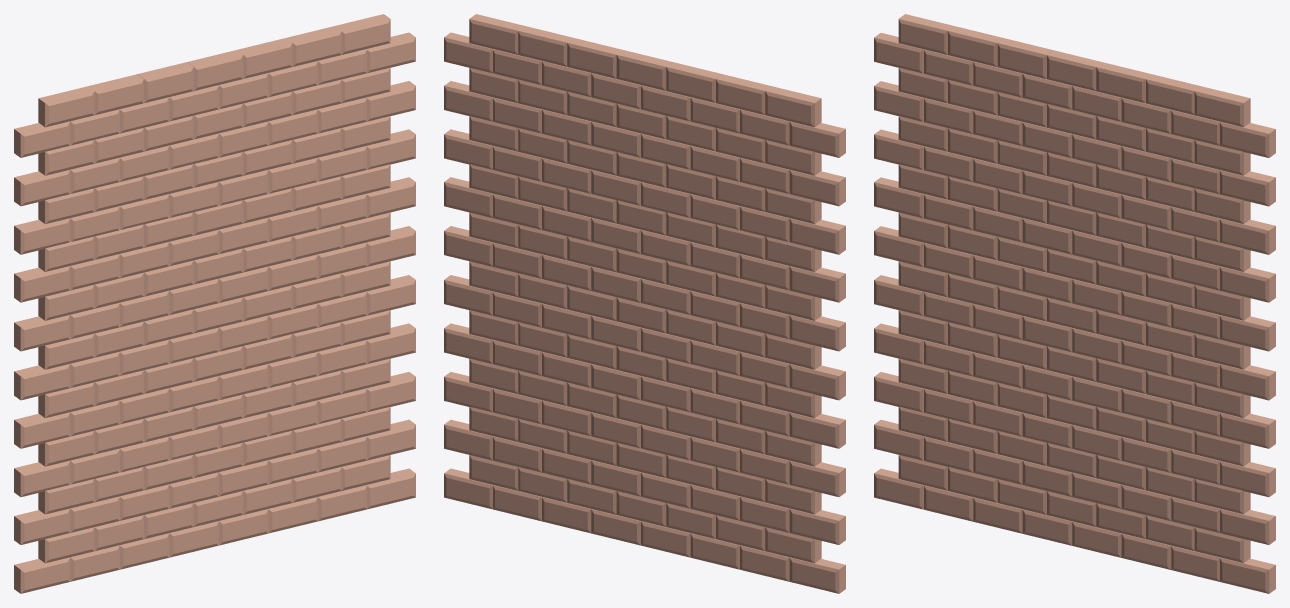
Rendered from Brick_Wall.fbx.
3 renders of one model, left to right at view 1: azimuth 30°, elevation 25°; view 2: azimuth 150°, elevation 25°; view 3: azimuth 330°, elevation 25°, orthographic.
Parts seen in each view (by area): view 1: Brick__143_, Brick__146_, Brick__8_, Brick__90_, Brick, Brick__75_, Brick__45_, Brick__120_, Brick__135_, Brick__60_, Brick__105_, Brick__30_ (+138 smaller); view 2: Brick__143_, Brick__146_, Brick__8_, Brick__90_, Brick, Brick__75_, Brick__45_, Brick__120_, Brick__135_, Brick__60_, Brick__105_, Brick__30_ (+138 smaller); view 3: Brick__149_, Brick__82_, Brick__144_, Brick__97_, Brick__7_, Brick__22_, Brick__127_, Brick__143_, Brick__145_, Brick__146_, Brick__147_, Brick__67_ (+138 smaller).
Part boxes in pixels (<box>): Brick__143_: <box>38,86,94,127</box>; Brick__146_: <box>187,50,243,90</box>; Brick__8_: <box>14,508,70,544</box>; Brick__90_: <box>14,266,70,302</box>; Brick: <box>14,557,70,593</box>; Brick__75_: <box>14,315,70,351</box>; Brick__45_: <box>14,412,70,448</box>; Brick__120_: <box>14,170,70,206</box>; Brick__135_: <box>14,121,70,157</box>; Brick__60_: <box>14,364,70,400</box>; Brick__105_: <box>14,218,70,254</box>; Brick__30_: <box>14,460,70,496</box>; Brick__143_: <box>765,86,821,127</box>; Brick__146_: <box>616,50,672,90</box>; Brick__8_: <box>789,508,845,544</box>; Brick__90_: <box>789,266,845,302</box>; Brick: <box>789,557,845,593</box>; Brick__75_: <box>789,315,845,351</box>; Brick__45_: <box>789,412,845,448</box>; Brick__120_: <box>789,170,845,206</box>; Brick__135_: <box>789,121,845,157</box>; Brick__60_: <box>789,364,845,400</box>; Brick__105_: <box>789,218,845,254</box>; Brick__30_: <box>789,460,845,496</box>; Brick__149_: <box>1194,86,1250,127</box>; Brick__82_: <box>1220,315,1275,351</box>; Brick__144_: <box>948,26,1003,66</box>; Brick__97_: <box>1220,266,1275,302</box>; Brick__7_: <box>1220,557,1275,593</box>; Brick__22_: <box>1220,508,1275,544</box>; Brick__127_: <box>1220,170,1275,206</box>; Brick__143_: <box>898,14,953,54</box>; Brick__145_: <box>997,38,1053,79</box>; Brick__146_: <box>1047,50,1102,91</box>; Brick__147_: <box>1096,62,1151,103</box>; Brick__67_: <box>1220,364,1275,400</box>.
Bounding box in the file's own units: 237 × 278 × 8.37.
